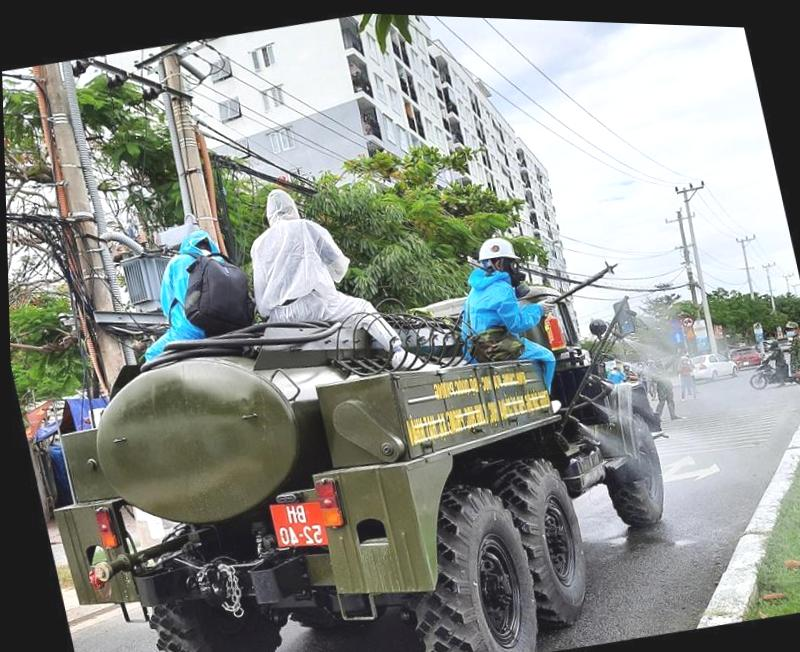License_Plate: (269, 490, 333, 551)
